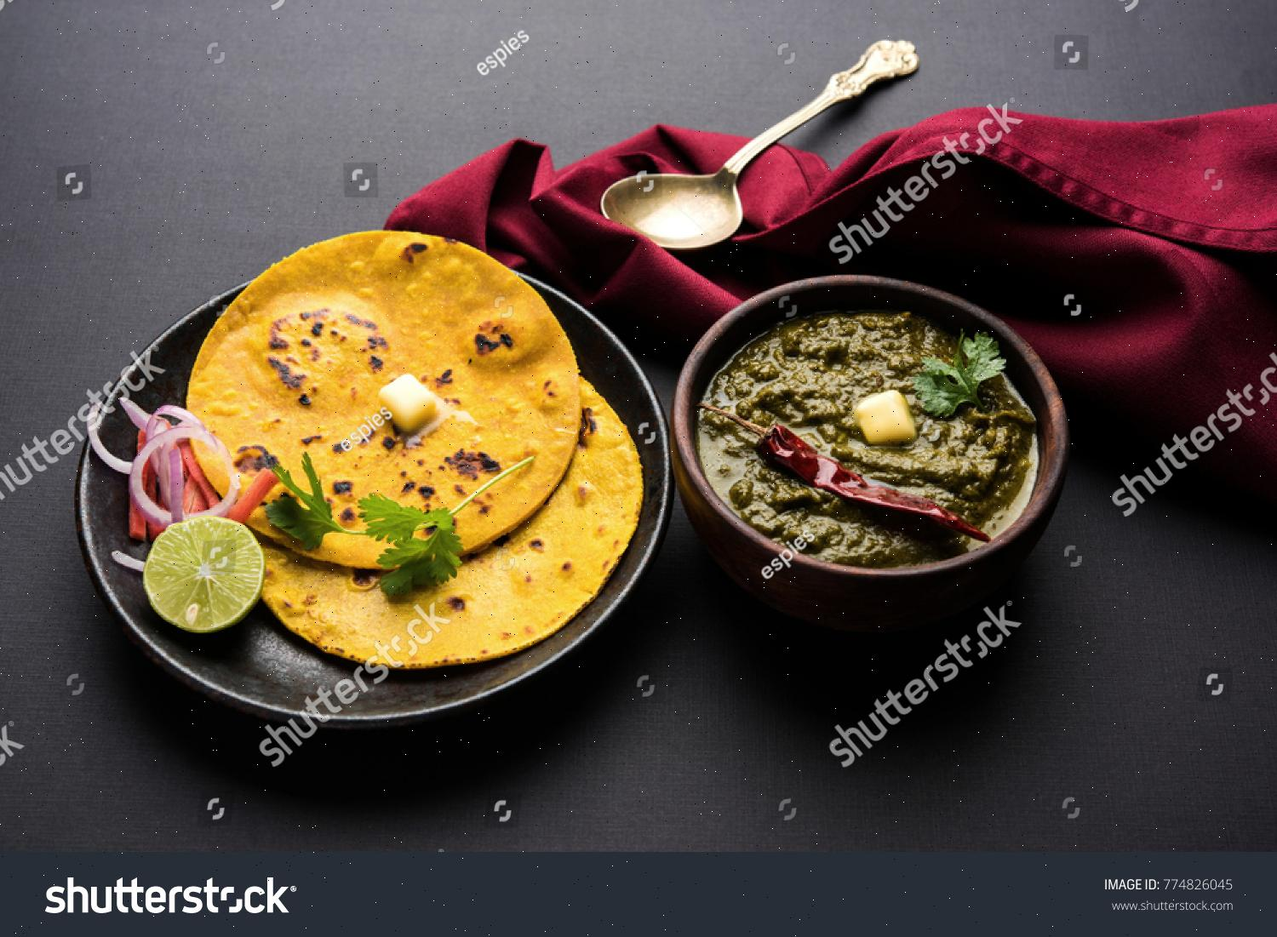saag: (698, 290, 1049, 568)
